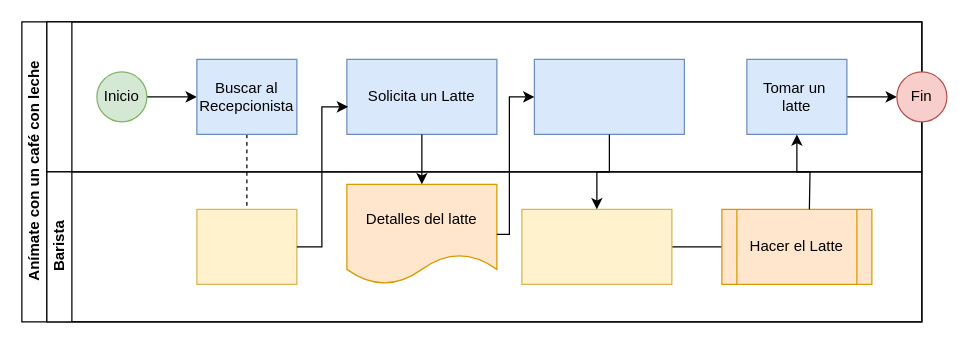
Some shapes in this 969 by 344 pixel diagram are drawn without their labels. Here are the shapes that lost their labels. From the top down, the box of each, then its label:
(46, 21, 922, 172): Clientes
(533, 58, 684, 134): Compra el Latte
(196, 208, 297, 284): Cliente
(521, 208, 672, 284): Acepta el pago
